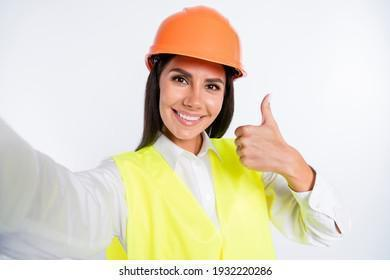helmet: (144, 5, 248, 78)
